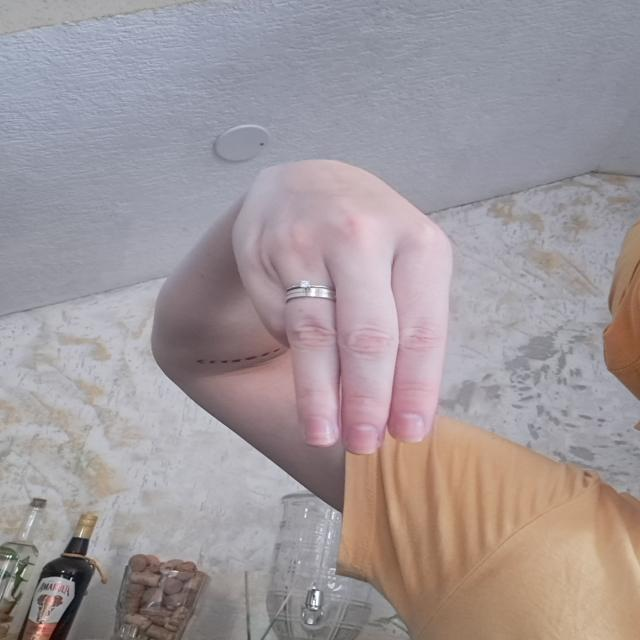M: (214, 141, 484, 461)
